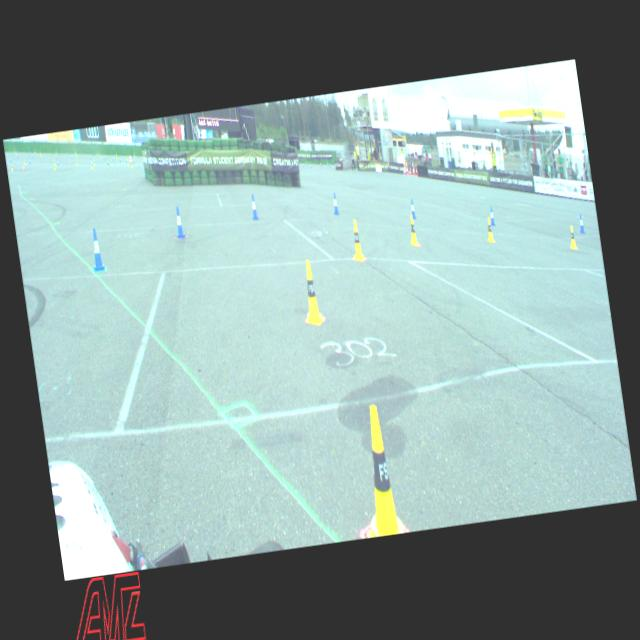blue_cone: (88, 228, 105, 272), (172, 206, 185, 239), (250, 193, 260, 220), (331, 193, 339, 215), (577, 214, 585, 234), (488, 208, 496, 225), (410, 199, 416, 220)
yellow_cone: (350, 403, 404, 538), (298, 260, 325, 326), (349, 219, 364, 260), (407, 214, 419, 246), (485, 216, 494, 242), (568, 226, 577, 250)
